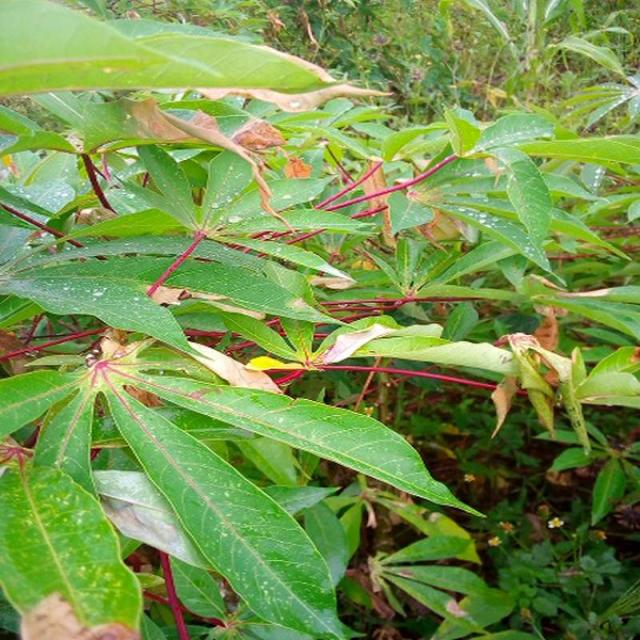cassava leaf: (96, 372, 352, 638), (0, 0, 340, 99), (0, 461, 143, 636)
